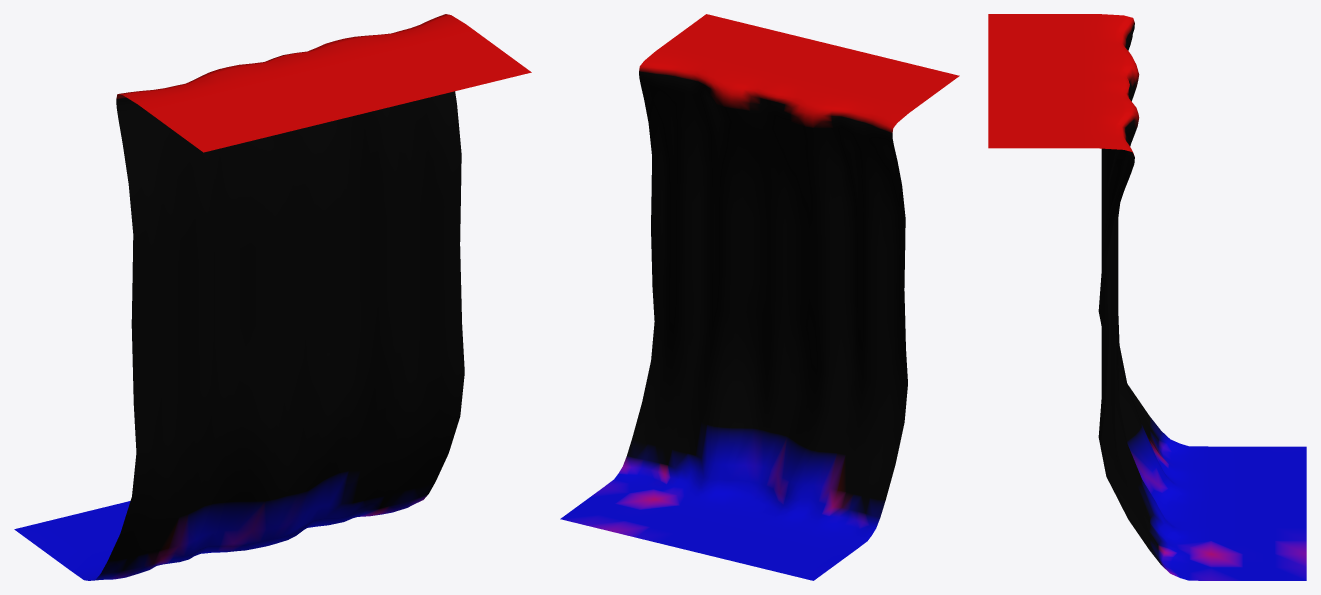
Rendered from GroundCliff01A 3M for Water Foreground.fbx.
3 views of the same model, side by side, from view 1: azimuth 30°, elevation 25°; view 2: azimuth 150°, elevation 25°; view 3: azimuth 270°, elevation 25° (orthographic). The views are drawn at different scales.
Visible parts, largest first — view 1: GroundCliff01A 3M for Water Foreground; view 2: GroundCliff01A 3M for Water Foreground; view 3: GroundCliff01A 3M for Water Foreground.
Part boxes in pixels (box(x1,y1,x2,y2)): GroundCliff01A 3M for Water Foreground: box(14, 14, 531, 580); GroundCliff01A 3M for Water Foreground: box(560, 14, 959, 580); GroundCliff01A 3M for Water Foreground: box(988, 14, 1306, 580).
Bounding box in the file's own units: 2 × 3 × 2.
